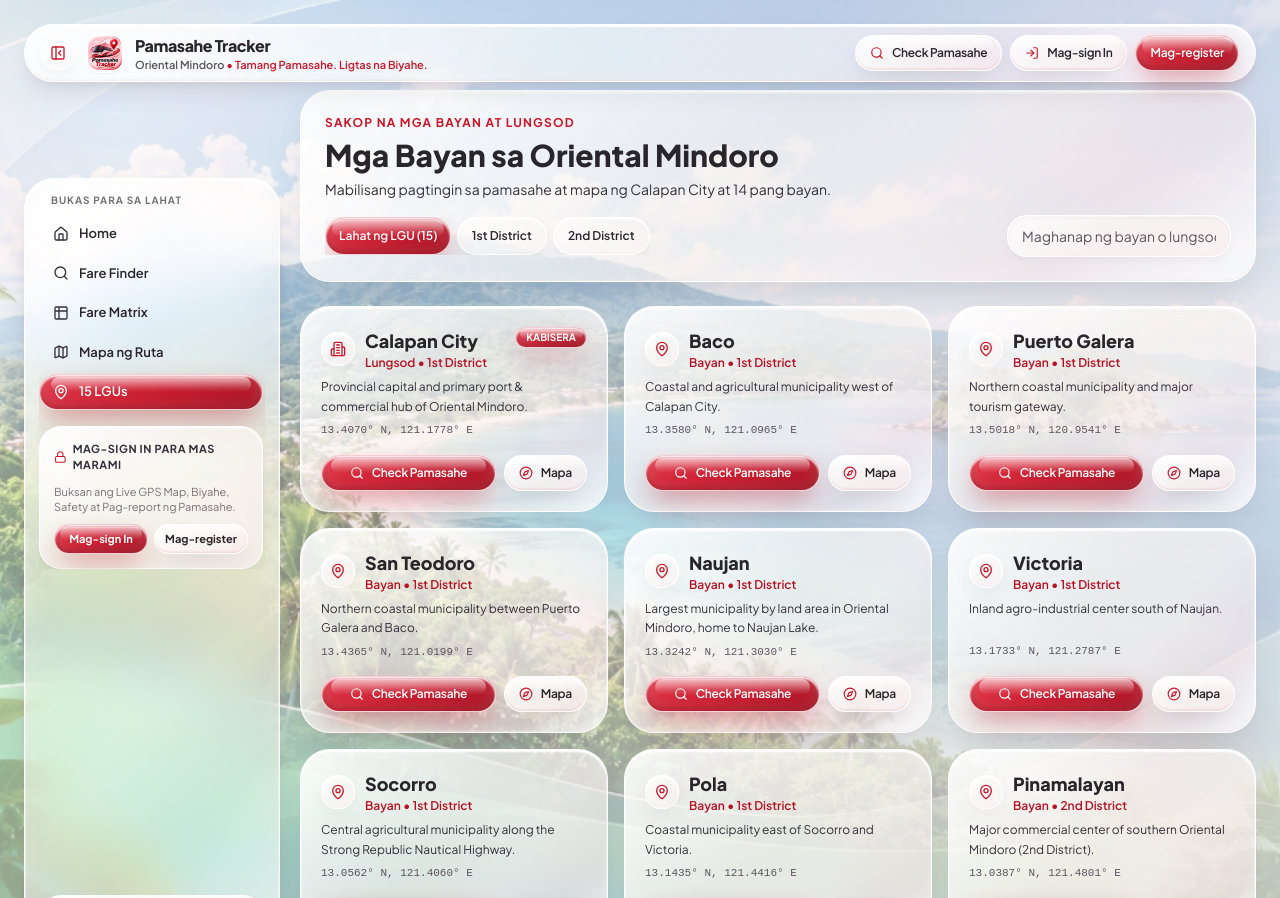
Test: Navigation, Matrix Filtering, Recent Search History & Status Metadata › renders Municipalities (15 LGUs) and collapsible desktop sidebar toggle cleanly
The width and height of the screenshot is (1280, 898).
Expected: the heading "Mga Bayan sa Oriental Mindoro" is shown, left=325, top=136, right=779, bottom=174
Expected: the heading "Calapan City" is shown, left=365, top=327, right=487, bottom=355
Click the button named "Isara ang sidebar".
click(58, 53)  # box left=41, top=36, right=75, bottom=70
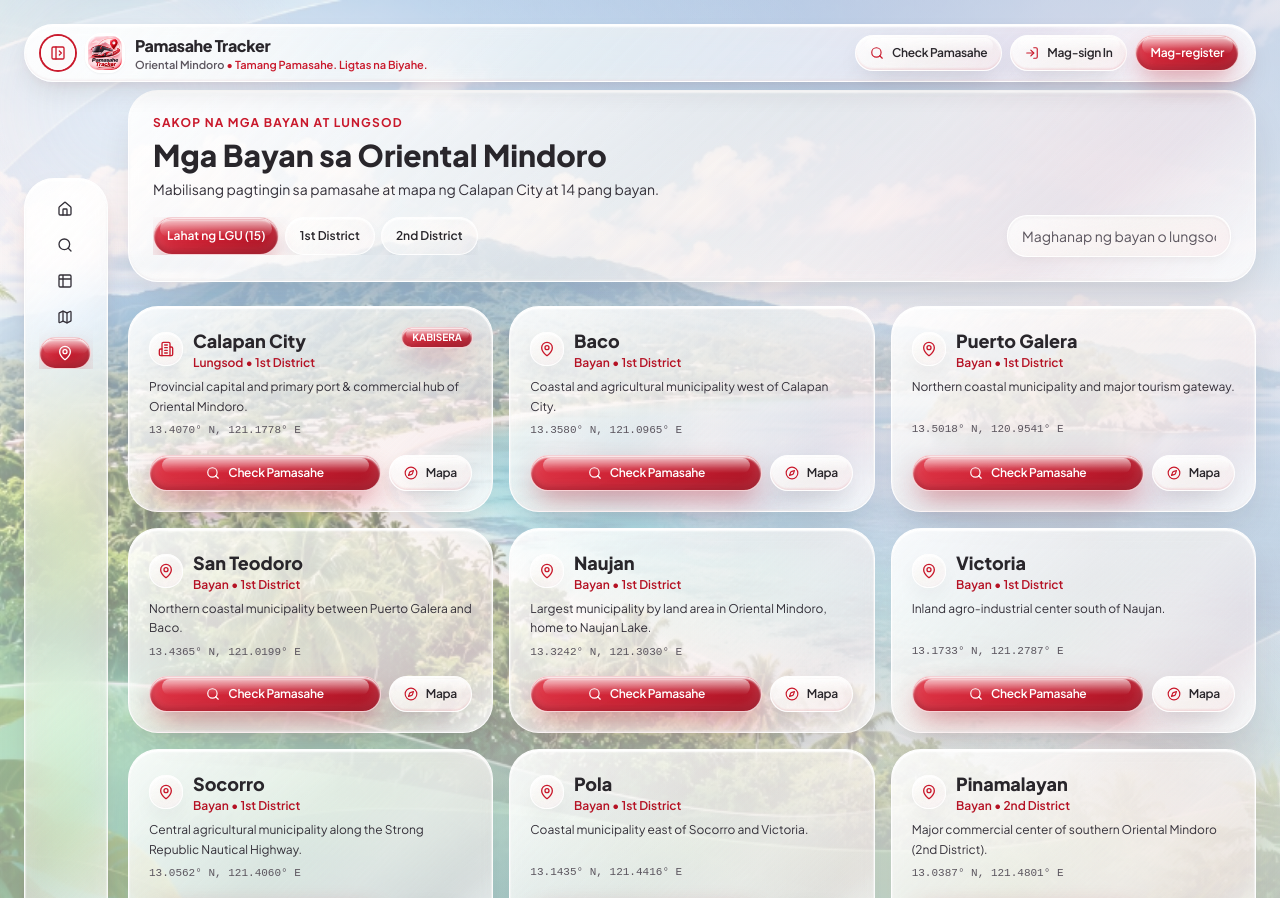
Result: the button named "Buksan ang sidebar" is shown at left=41, top=36, right=75, bottom=70
